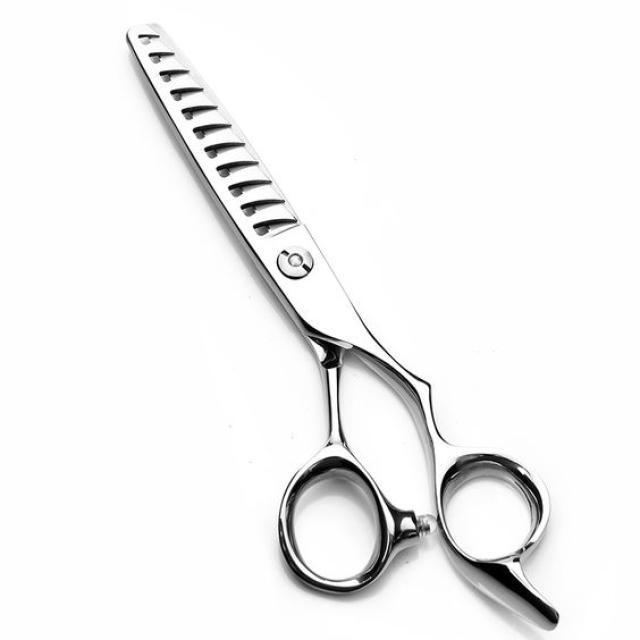scissor: (122, 24, 560, 630)
